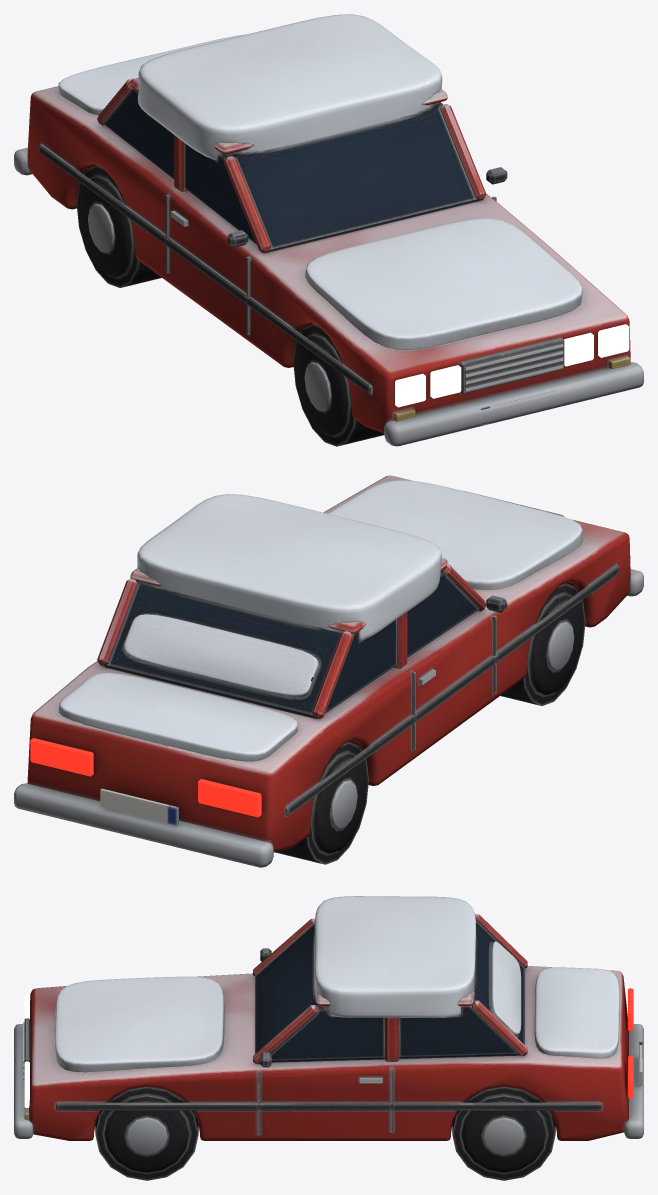
Rendered from car_red.glb.
The picture shows the model from 3 angles, top to bottom: view 1: azimuth 30°, elevation 25°; view 2: azimuth 150°, elevation 25°; view 3: azimuth 270°, elevation 25°; orthographic projection. The views are drawn at different scales.
Parts seen in each view (by area): view 1: car_red, car_red_glow; view 2: car_red, car_red_glow; view 3: car_red, car_red_glow.
Part boxes in pixels (x1,y1,x2,y2): car_red: [14, 14, 643, 446]; car_red_glow: [395, 324, 629, 407]; car_red: [14, 475, 643, 867]; car_red_glow: [30, 533, 629, 817]; car_red: [14, 896, 643, 1180]; car_red_glow: [24, 988, 633, 1107].
Size of the model in its own units: 1.88 by 1.56 by 4.5.
3 materials, 1 textured.
